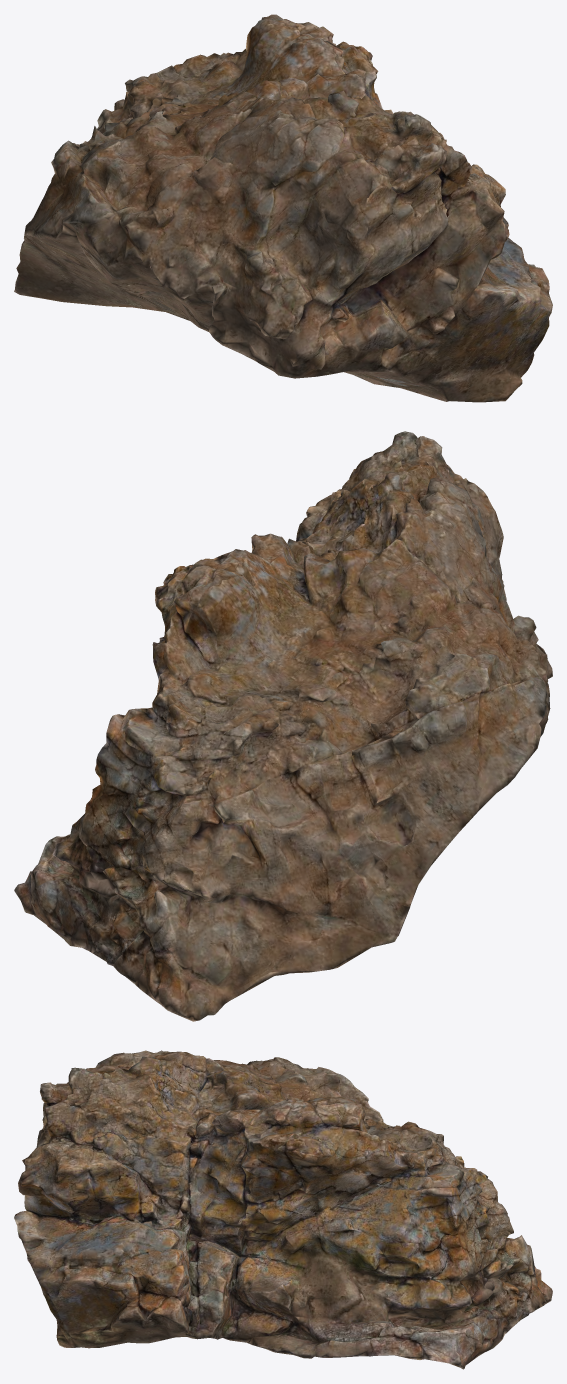
The model's file is boulder_01.glb.
The picture shows the model from 3 angles, top to bottom: view 1: azimuth 30°, elevation 25°; view 2: azimuth 150°, elevation 25°; view 3: azimuth 270°, elevation 25°; orthographic projection. The views are drawn at different scales.
Visible parts, largest first — view 1: boulder_01; view 2: boulder_01; view 3: boulder_01.
Part boxes in pixels (x1,y1,x2,y2): boulder_01: (14,14,552,402); boulder_01: (14,431,552,1021); boulder_01: (14,1050,552,1369).
Bounding box in the file's own units: 1.27 × 1 × 1.83.
Materials: 1 (1 with a texture image).
